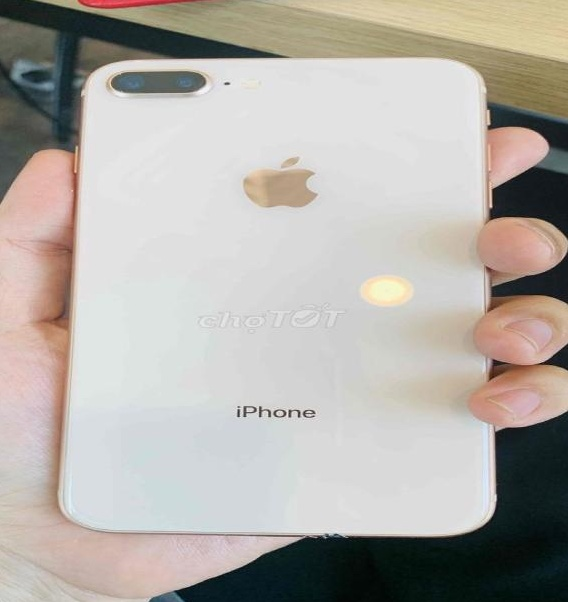scratch: (96, 66, 213, 97)
screen_defect: (356, 272, 421, 309)
